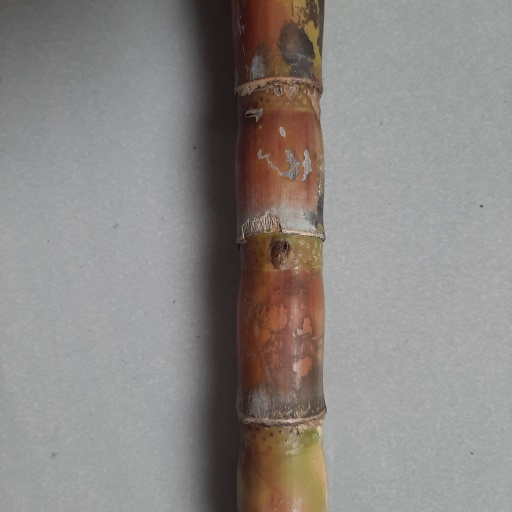Bud: (268, 239, 294, 270)
